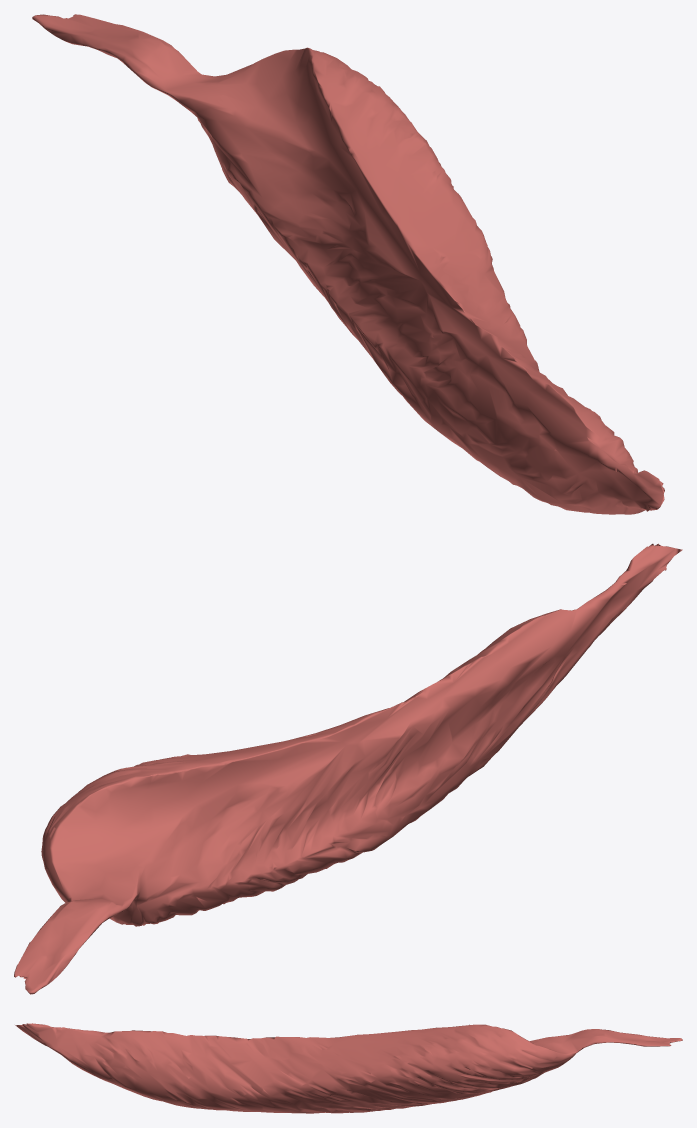
The picture shows the model from 3 angles, top to bottom: view 1: azimuth 30°, elevation 25°; view 2: azimuth 150°, elevation 25°; view 3: azimuth 270°, elevation 25°; orthographic projection. The views are drawn at different scales.
Parts seen in each view (by area): view 1: 右侧股内侧肌; view 2: 右侧股内侧肌; view 3: 右侧股内侧肌.
Part boxes in pixels (<box>): 右侧股内侧肌: <box>32,14,664,514</box>; 右侧股内侧肌: <box>14,543,682,994</box>; 右侧股内侧肌: <box>15,1023,682,1113</box>.
Bounding box in the file's own units: 0.1055 × 0.1009 × 0.601.
